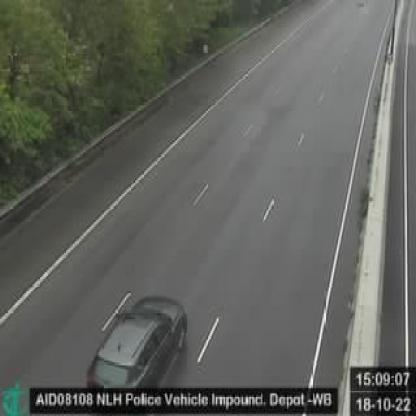Car: (80, 290, 191, 403)
